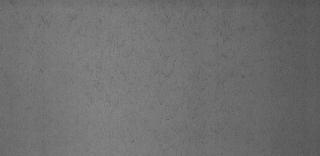silk spot: (90, 2, 254, 105)
